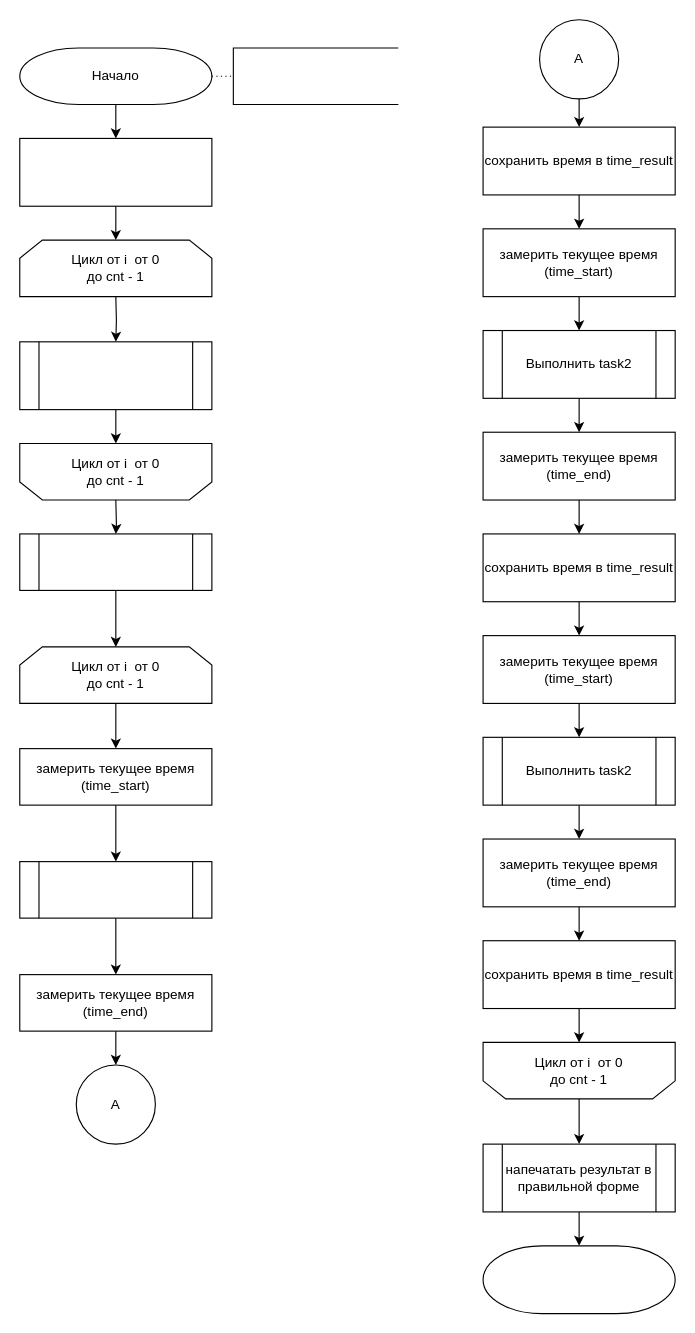
The diagram is 695 pixels wide and 1333 high, and some of its shapes have lost their labels. The shapes that lost their labels are listed below. From the top down, each one's centre as x and y in pixels, then its label:
At point 315,76: "Линейная обработка данных Вход: кол-во заявки cnt.".
At point 115,171: "создать очереди этапов обработки qA1, qA2, qA3".
At point 115,375: "Сгенерировать строку подстроку и добавить их в очередь qA1".
At point 115,561: "создать массив time_result".
At point 115,889: "Выполнить task1".
At point 578,1279: "Конец".
